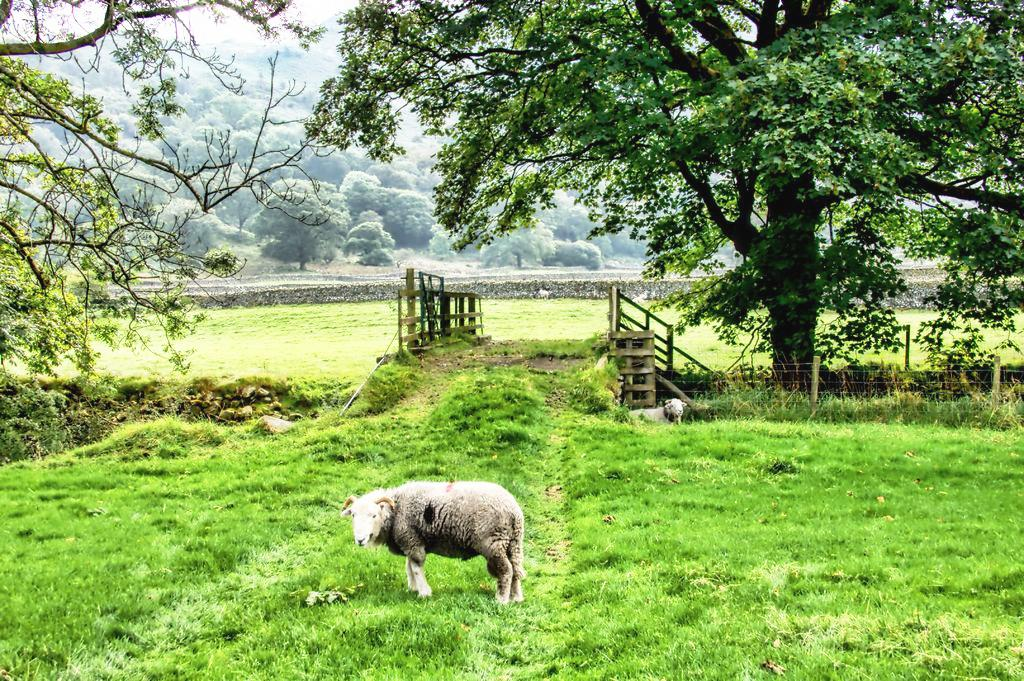Sheep: (345, 485, 537, 606)
